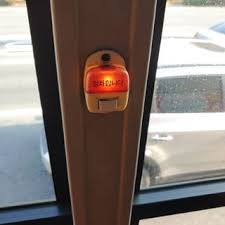bell: (82, 50, 132, 118)
